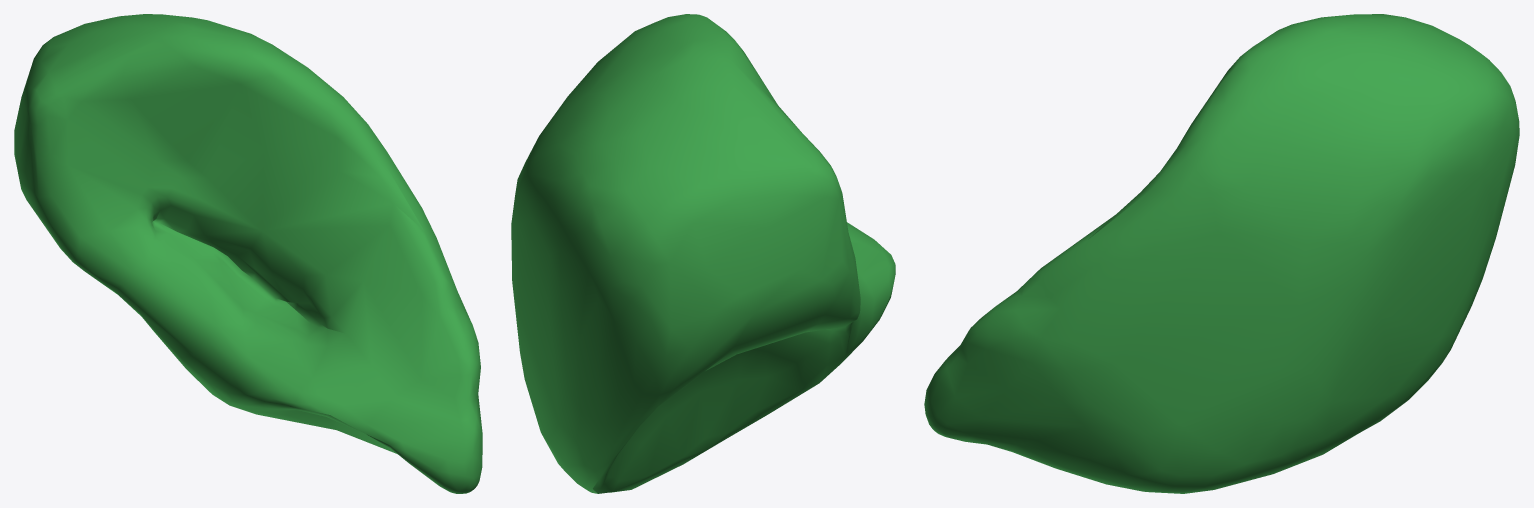
File: lymphatic.abdomen.glb
3 views of the same model, side by side, from view 1: azimuth 30°, elevation 25°; view 2: azimuth 150°, elevation 25°; view 3: azimuth 270°, elevation 25° (orthographic). The views are drawn at different scales.
Visible parts, largest first — view 1: spleen; view 2: spleen; view 3: spleen.
Boxes of the visible parts, box(x1,y1,x2,y2) form: spleen: box(14, 14, 482, 493); spleen: box(511, 14, 895, 493); spleen: box(924, 14, 1519, 493).
Bounding box in the file's own units: 0.0582 × 0.0702 × 0.0951.
